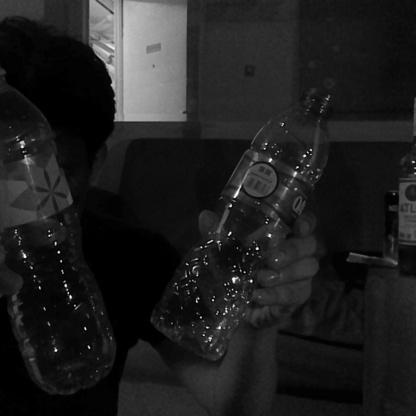plastic_bottles: (150, 80, 340, 363), (0, 106, 118, 390)
